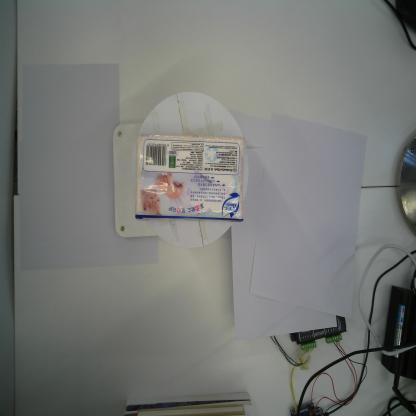Tissue: (135, 132, 246, 228)
